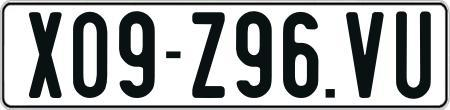0: (72, 12, 111, 100)
6: (281, 9, 321, 100)
9: (119, 9, 157, 96), (236, 10, 272, 100)
U: (395, 10, 430, 101)
V: (343, 9, 381, 96)
X: (27, 11, 60, 99)
Z: (190, 9, 227, 101)
